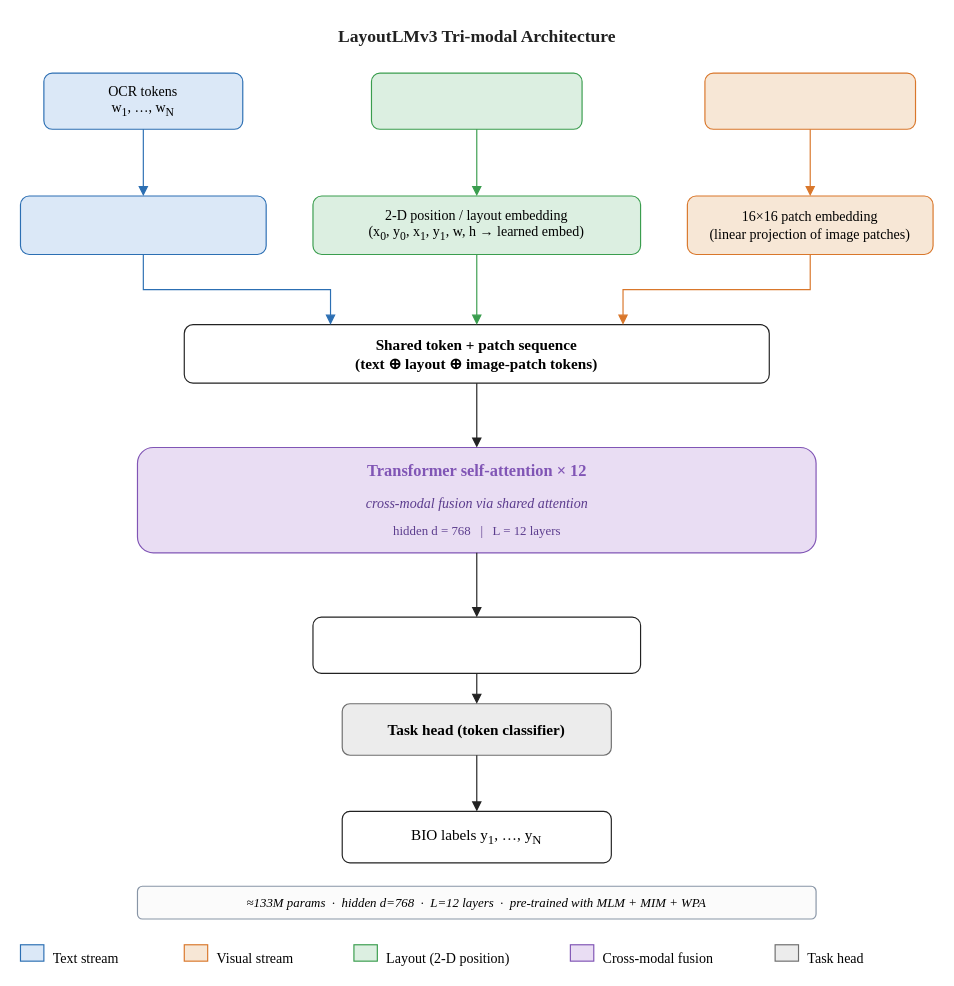
This 954x986 diagram has some shape labels left out. Each missing label, with the box of its shape:
Bounding boxes b i ∈ [0,1000] 4: (370, 72, 582, 129)
Page image I ∈ ℝ 3×224×224: (704, 72, 916, 129)
Text embedding (WordPiece + position): (19, 195, 266, 254)
Token representations h 1 , …, h N: (312, 616, 641, 673)
